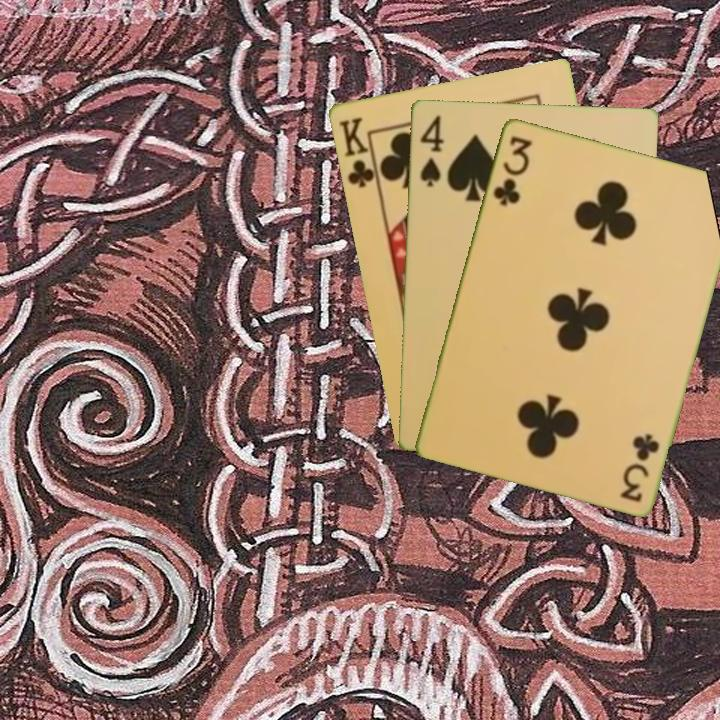3c: (489, 131, 535, 209), (617, 429, 663, 505)
4s: (416, 111, 446, 189)
Kc: (335, 113, 381, 191)
